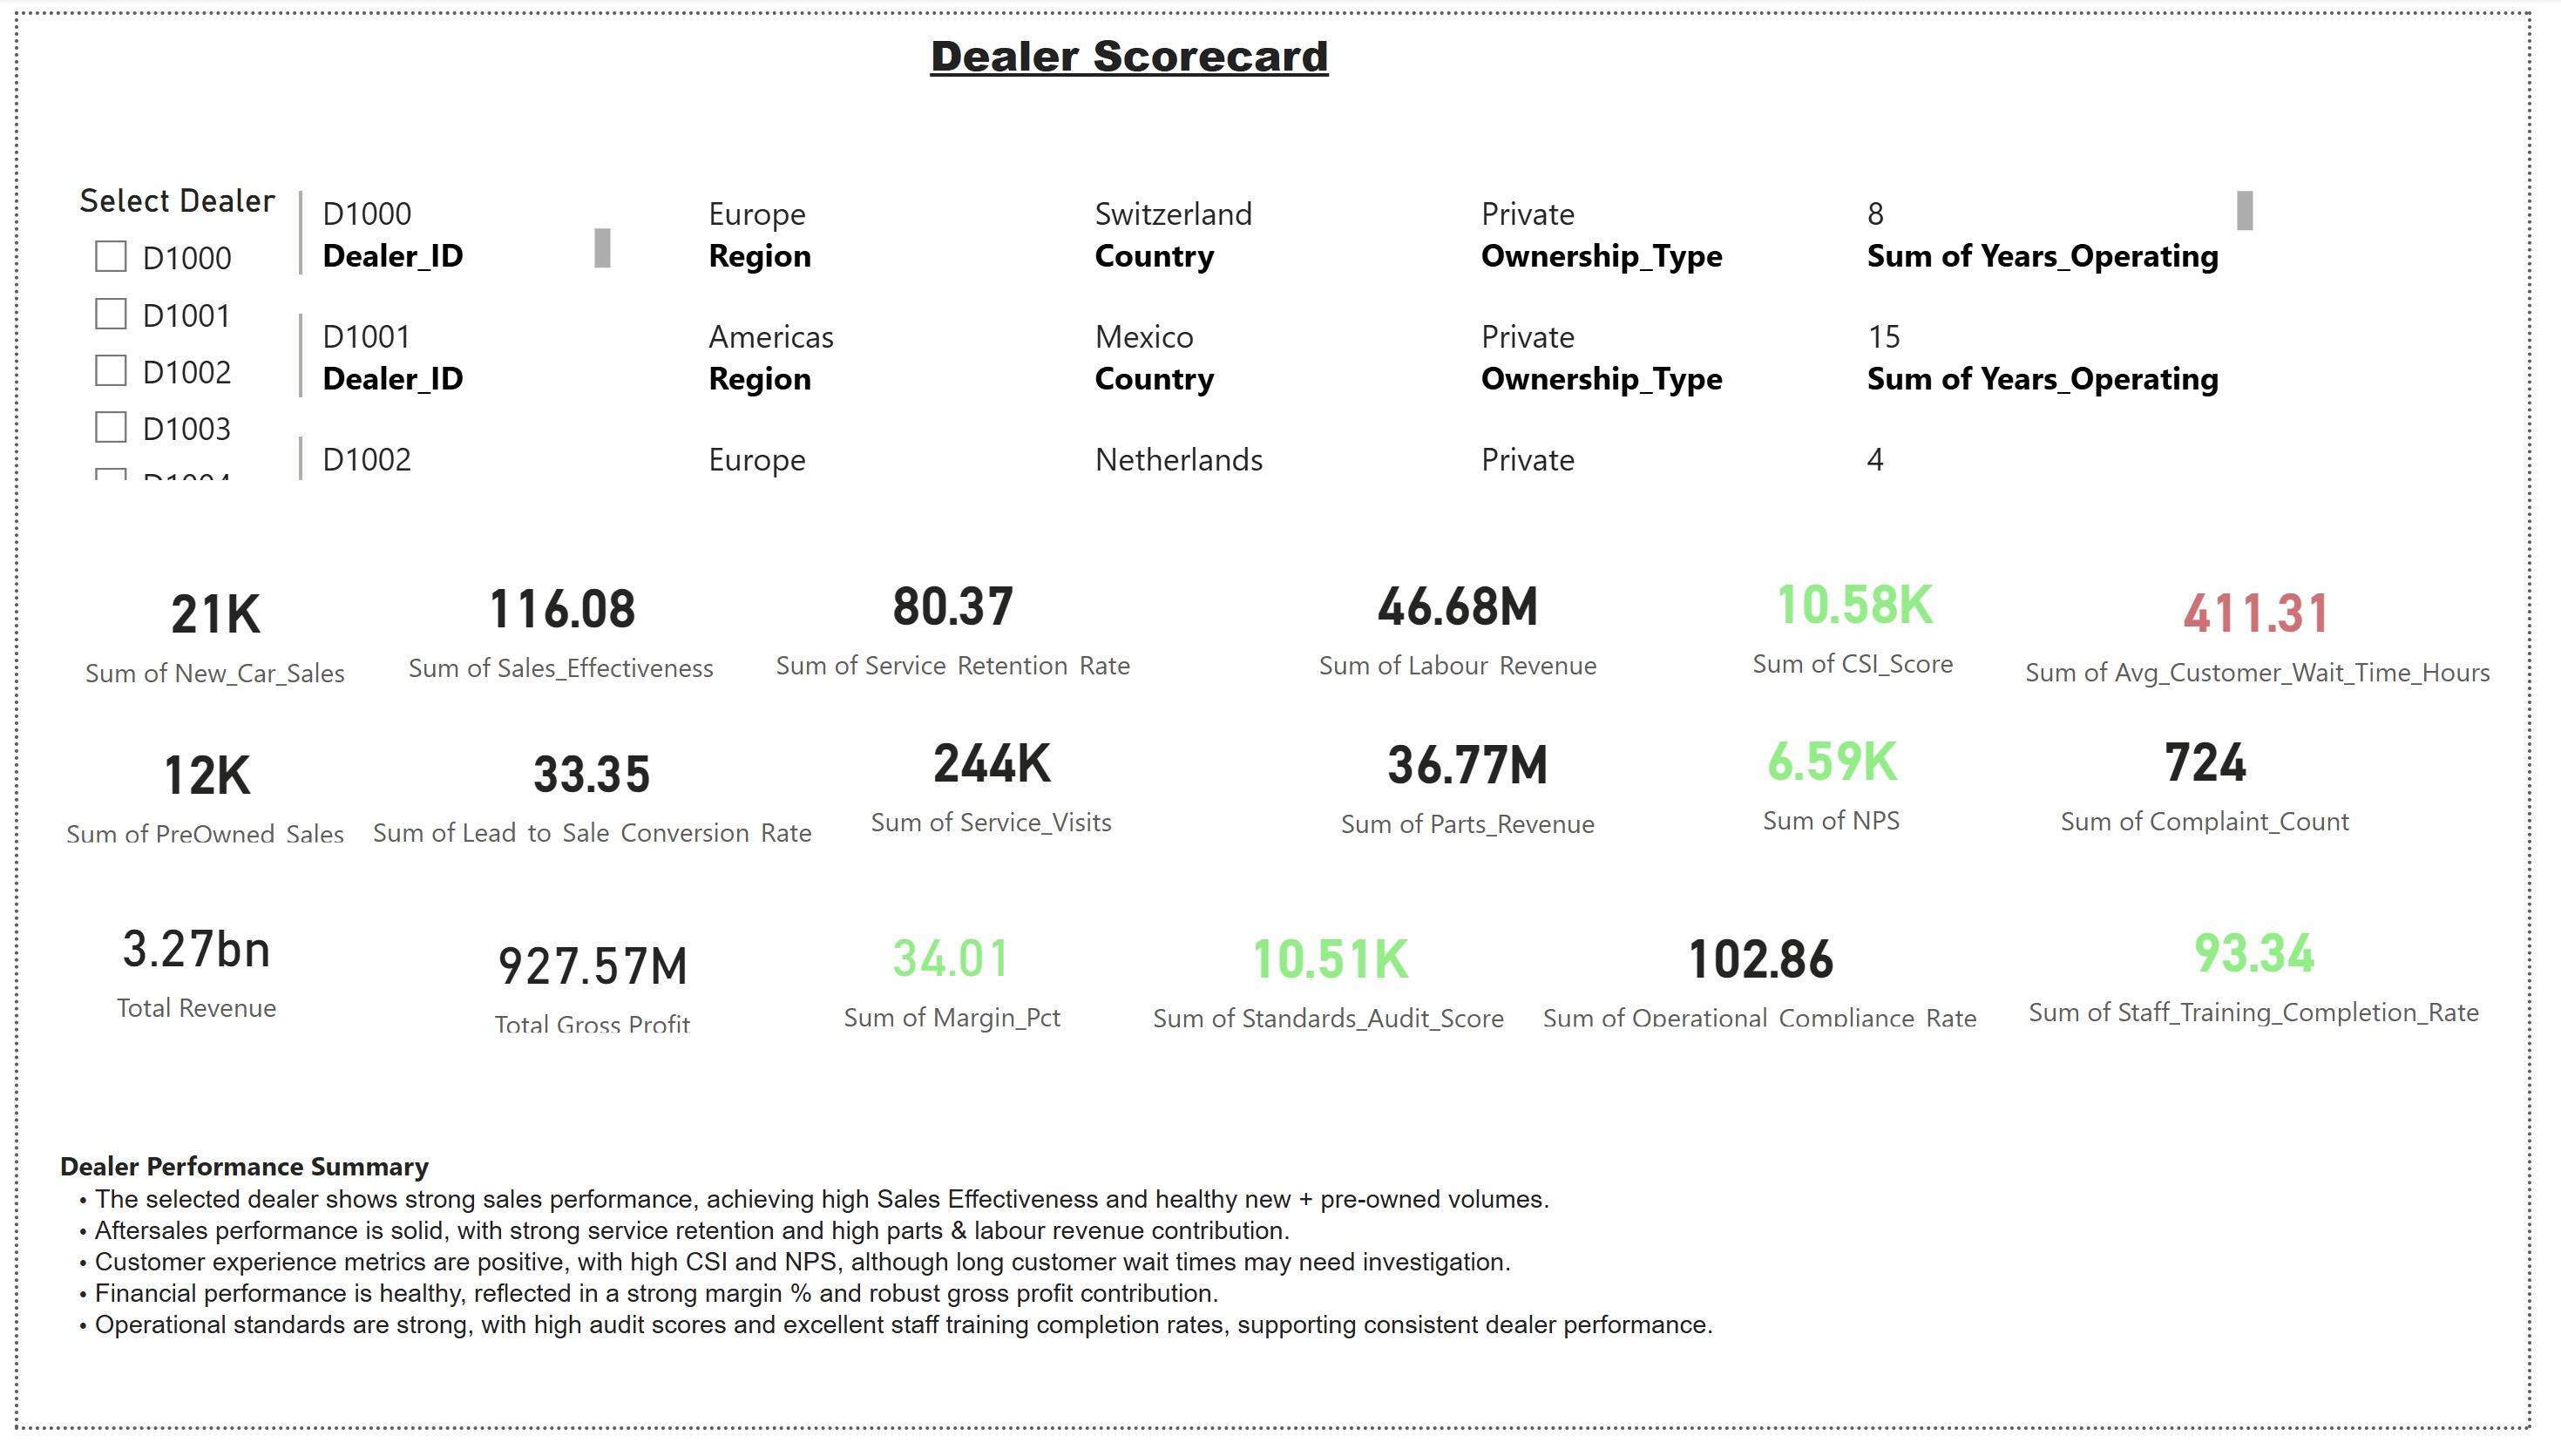

The page's visual inventory and layout, read from the dashboard file:
{"tool":"powerbi","page":{"name":"Dealer Score Card","canvas":[1280,720],"ordinal":5},"visuals":[{"type":"slicer","title":"Select Dealer","fields":{"Values":["dealer_kpis_luxury.Dealer_ID"]},"box":[25.8,84.5,280.8,157.6],"z":0},{"type":"multiRowCard","fields":{"Values":["dealer_kpis_luxury.Dealer_ID","dealer_kpis_luxury.Region","dealer_kpis_luxury.Country","dealer_kpis_luxury.Ownership_Type","Sum(dealer_kpis_luxury.Years_Operating)"]},"box":[137.5,84.5,1007,157.6],"z":1000},{"type":"card","fields":{"Values":["Sum(dealer_kpis_luxury.New_Car_Sales)"]},"box":[25.8,276.5,149,73.1],"z":2000},{"type":"card","fields":{"Values":["Sum(dealer_kpis_luxury.PreOwned_Sales)"]},"box":[6.4,363.4,178.3,63.9],"z":3000},{"type":"card","fields":{"Values":["Sum(dealer_kpis_luxury.Sales_Effectiveness)"]},"box":[183.4,276.5,187.7,68.8],"z":4000},{"type":"card","fields":{"Values":["Sum(dealer_kpis_luxury.Lead_to_Sale_Conversion_Rate)"]},"box":[163,363.4,260.2,63.9],"z":5000},{"type":"card","fields":{"Values":["Sum(dealer_kpis_luxury.Service_Visits)"]},"box":[424,351,144.7,75.9],"z":6000},{"type":"card","fields":{"Values":["Sum(dealer_kpis_luxury.Service_Retention_Rate)"]},"box":[371,276.5,212,65.9],"z":7000},{"type":"card","fields":{"Values":["Sum(dealer_kpis_luxury.Parts_Revenue)"]},"box":[629.3,352.6,220.5,74.7],"z":8000},{"type":"card","fields":{"Values":["Sum(dealer_kpis_luxury.Labour_Revenue)"]},"box":[640.3,276.5,189.1,65.9],"z":9000},{"type":"card","fields":{"Values":["Sum(dealer_kpis_luxury.CSI_Score)"]},"box":[849.5,270.7,173.3,74.5],"z":10000},{"type":"card","fields":{"Values":["Sum(dealer_kpis_luxury.NPS)"]},"box":[869.5,352.4,110.3,71.6],"z":11000},{"type":"card","fields":{"Values":["Sum(dealer_kpis_luxury.Avg_Customer_Wait_Time_Hours)"]},"box":[1015.6,275,253.6,74.5],"z":12000},{"type":"card","fields":{"Values":["Sum(dealer_kpis_luxury.Complaint_Count)"]},"box":[1002.7,353.8,224.9,68.8],"z":13000},{"type":"card","fields":{"Values":["dealer_kpis_luxury.Total Revenue"]},"box":[15.8,445.5,150.4,75.9],"z":14000},{"type":"card","fields":{"Values":["dealer_kpis_luxury.Total Gross Profit"]},"box":[217.7,461.3,150.4,63],"z":15000},{"type":"card","fields":{"Values":["Sum(dealer_kpis_luxury.Margin_Pct)"]},"box":[401.1,451.2,150.4,74.5],"z":16000},{"type":"card","fields":{"Values":["Sum(dealer_kpis_luxury.Standards_Audit_Score)"]},"box":[568.7,451.2,199.1,75.9],"z":17000},{"type":"card","fields":{"Values":["Sum(dealer_kpis_luxury.Operational_Compliance_Rate)"]},"box":[769.2,457,239.2,64.5],"z":18000},{"type":"card","fields":{"Values":["Sum(dealer_kpis_luxury.Staff_Training_Completion_Rate)"]},"box":[1015.6,451.2,249.3,70.2],"z":19000},{"type":"textbox","box":[16,573,1023,148],"z":20000},{"type":"textbox","box":[459.8,0,548.6,63],"z":20001}]}

Visuals, with their boxes in screenshot pixels (x1, y1, x2, y2), scaled from the page's 1280x720 canvas onto the 2561x1456 screenshot:
"Select Dealer" slicer: {"x1": 51, "y1": 171, "x2": 613, "y2": 490}
multiRowCard - dealer_kpis_luxury.Dealer_ID x dealer_kpis_luxury.Region: {"x1": 275, "y1": 171, "x2": 2290, "y2": 490}
card - Sum(dealer_kpis_luxury.New_Car_Sales): {"x1": 51, "y1": 559, "x2": 349, "y2": 707}
card - Sum(dealer_kpis_luxury.PreOwned_Sales): {"x1": 13, "y1": 735, "x2": 369, "y2": 864}
card - Sum(dealer_kpis_luxury.Sales_Effectiveness): {"x1": 367, "y1": 559, "x2": 742, "y2": 698}
card - Sum(dealer_kpis_luxury.Lead_to_Sale_Conversion_Rate): {"x1": 326, "y1": 735, "x2": 847, "y2": 864}
card - Sum(dealer_kpis_luxury.Service_Visits): {"x1": 849, "y1": 710, "x2": 1138, "y2": 863}
card - Sum(dealer_kpis_luxury.Service_Retention_Rate): {"x1": 742, "y1": 559, "x2": 1167, "y2": 693}
card - Sum(dealer_kpis_luxury.Parts_Revenue): {"x1": 1259, "y1": 713, "x2": 1700, "y2": 864}
card - Sum(dealer_kpis_luxury.Labour_Revenue): {"x1": 1281, "y1": 559, "x2": 1659, "y2": 693}
card - Sum(dealer_kpis_luxury.CSI_Score): {"x1": 1700, "y1": 547, "x2": 2046, "y2": 698}
card - Sum(dealer_kpis_luxury.NPS): {"x1": 1739, "y1": 713, "x2": 1961, "y2": 857}
card - Sum(dealer_kpis_luxury.Avg_Customer_Wait_Time_Hours): {"x1": 2032, "y1": 556, "x2": 2539, "y2": 707}
card - Sum(dealer_kpis_luxury.Complaint_Count): {"x1": 2006, "y1": 715, "x2": 2456, "y2": 855}
card - dealer_kpis_luxury.Total Revenue: {"x1": 31, "y1": 901, "x2": 333, "y2": 1054}
card - dealer_kpis_luxury.Total Gross Profit: {"x1": 436, "y1": 933, "x2": 736, "y2": 1060}
card - Sum(dealer_kpis_luxury.Margin_Pct): {"x1": 803, "y1": 912, "x2": 1103, "y2": 1063}
card - Sum(dealer_kpis_luxury.Standards_Audit_Score): {"x1": 1138, "y1": 912, "x2": 1536, "y2": 1066}
card - Sum(dealer_kpis_luxury.Operational_Compliance_Rate): {"x1": 1539, "y1": 924, "x2": 2017, "y2": 1054}
card - Sum(dealer_kpis_luxury.Staff_Training_Completion_Rate): {"x1": 2032, "y1": 912, "x2": 2531, "y2": 1054}
textbox: {"x1": 32, "y1": 1159, "x2": 2079, "y2": 1455}
textbox: {"x1": 920, "y1": 0, "x2": 2017, "y2": 127}
